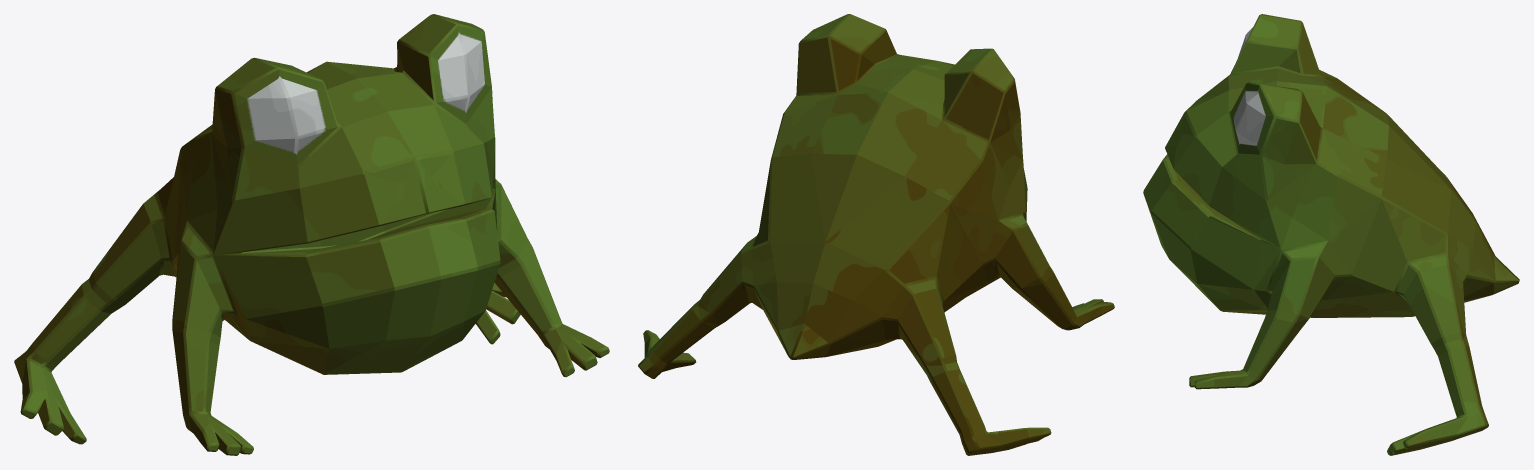
The model's file is Kurbaga.fbx.
3 renders of one model, left to right at view 1: azimuth 30°, elevation 25°; view 2: azimuth 150°, elevation 25°; view 3: azimuth 270°, elevation 25°, orthographic. The views are drawn at different scales.
Parts seen in each view (by area): view 1: kurbağa; view 2: kurbağa; view 3: kurbağa.
Part boxes in pixels (box(x1,y1,x2,y2)): kurbağa: box(14, 14, 609, 455); kurbağa: box(638, 14, 1114, 455); kurbağa: box(1143, 14, 1519, 455).
Size of the model in its own units: 0.8708 by 0.6665 by 0.6973.
Materials: 1 (1 with a texture image).
